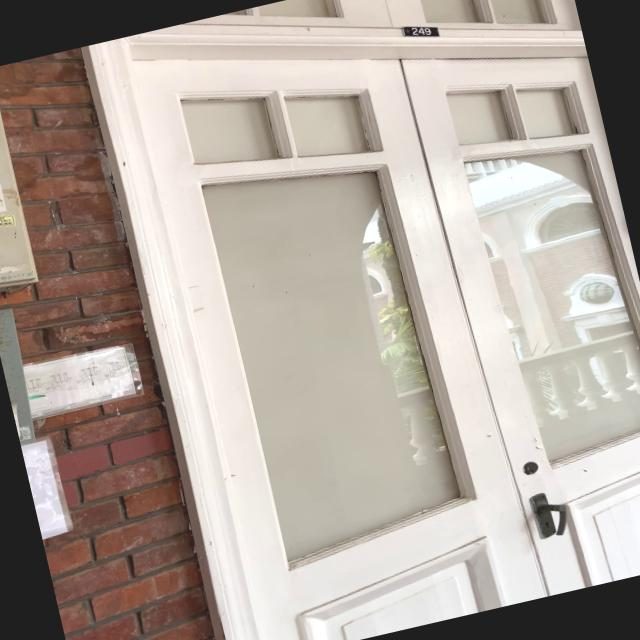room249: (392, 14, 443, 46)
